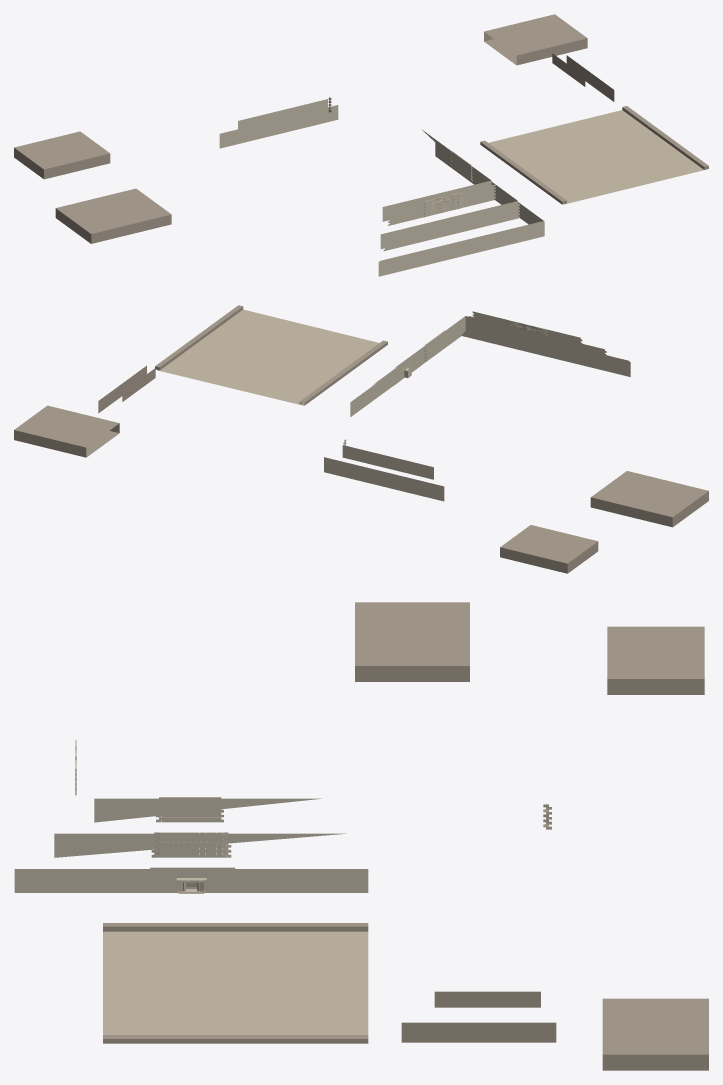
File: chavin_terraces_lod0.glb
3 views of the same model, one above another, from view 1: azimuth 30°, elevation 25°; view 2: azimuth 150°, elevation 25°; view 3: azimuth 270°, elevation 25° (orthographic). The views are drawn at different scales.
Visible parts, largest first — view 1: chavin_terraces; view 2: chavin_terraces; view 3: chavin_terraces.
Boxes of the visible parts, x1,y1,x2,y2 form: chavin_terraces: (14, 14, 708, 276); chavin_terraces: (14, 305, 708, 573); chavin_terraces: (14, 602, 708, 1070).
Bounding box in the file's own units: 242 × 18.29 × 157.
